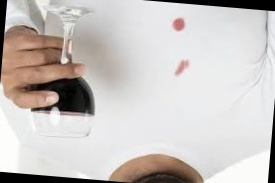wine: (173, 59, 192, 78), (169, 14, 188, 31)
